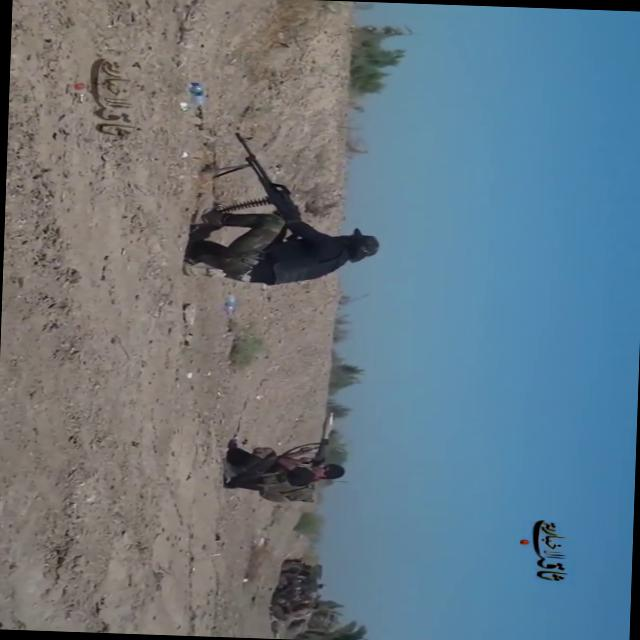long weapon: (217, 128, 320, 226)
